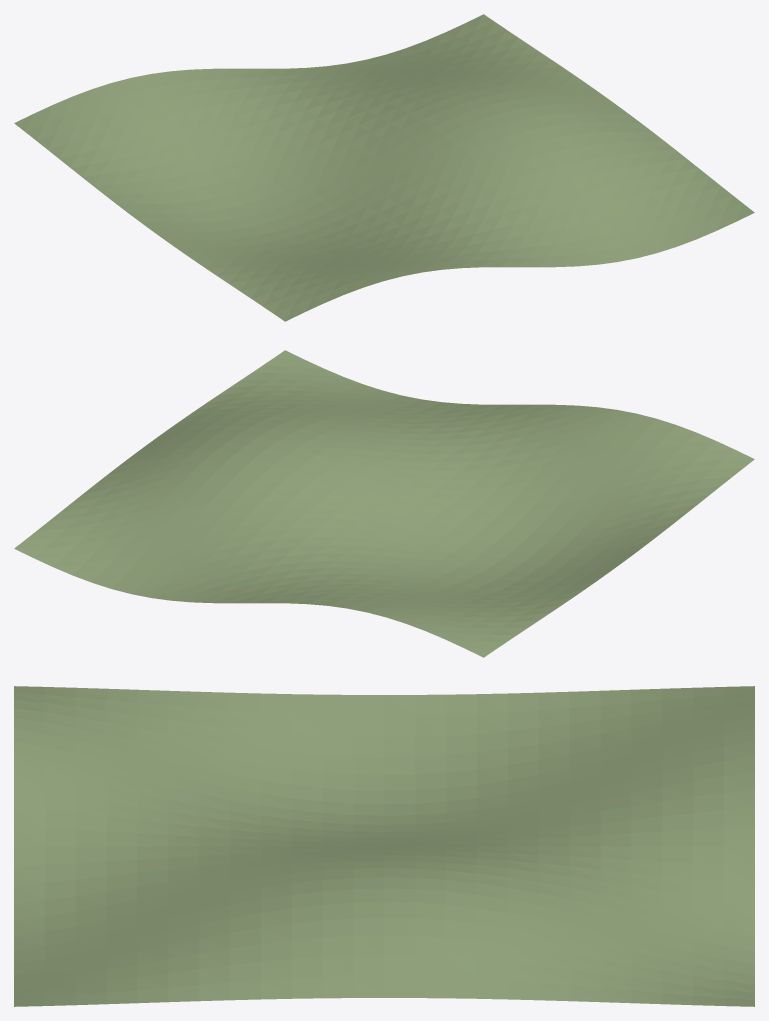
Rendered from terreno.glb.
The picture shows the model from 3 angles, top to bottom: view 1: azimuth 30°, elevation 25°; view 2: azimuth 150°, elevation 25°; view 3: azimuth 270°, elevation 25°; orthographic projection. The views are drawn at different scales.
Visible parts, largest first — view 1: world; view 2: world; view 3: world.
Boxes of the visible parts, bbox=[...] form: world: bbox=[14, 14, 754, 321]; world: bbox=[14, 350, 754, 657]; world: bbox=[14, 686, 754, 1006].
Size of the model in its own units: 12 by 1.3 by 12.
